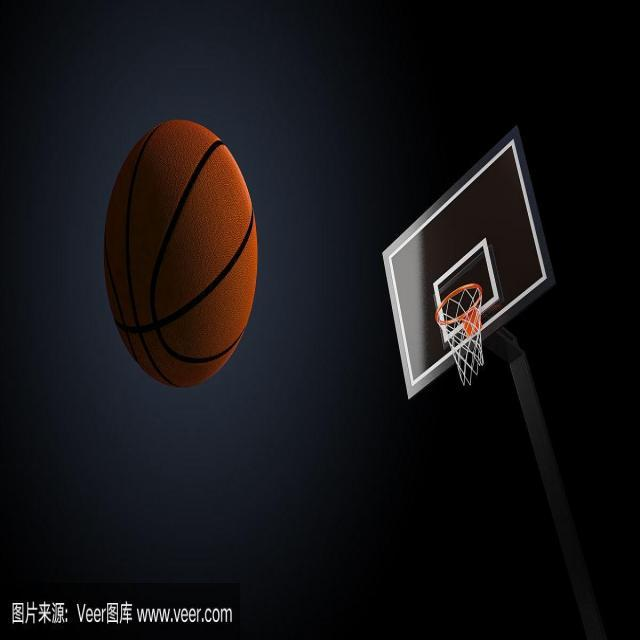rim: (105, 116, 258, 390)
